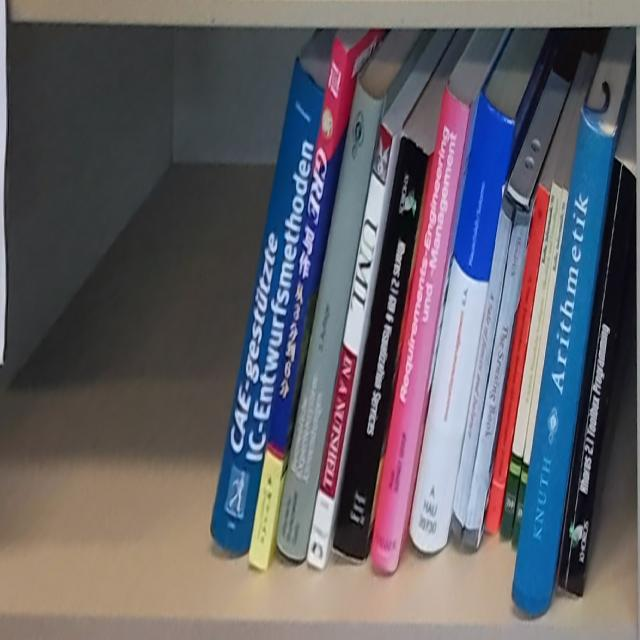Book Spine: (208, 54, 322, 561), (274, 78, 385, 565), (249, 33, 348, 568), (514, 103, 617, 614), (369, 81, 471, 577), (409, 93, 515, 556), (332, 133, 429, 566), (305, 121, 392, 580), (555, 156, 639, 601), (448, 187, 516, 547), (459, 208, 530, 552), (483, 181, 551, 539), (509, 182, 572, 559), (501, 180, 561, 545)
